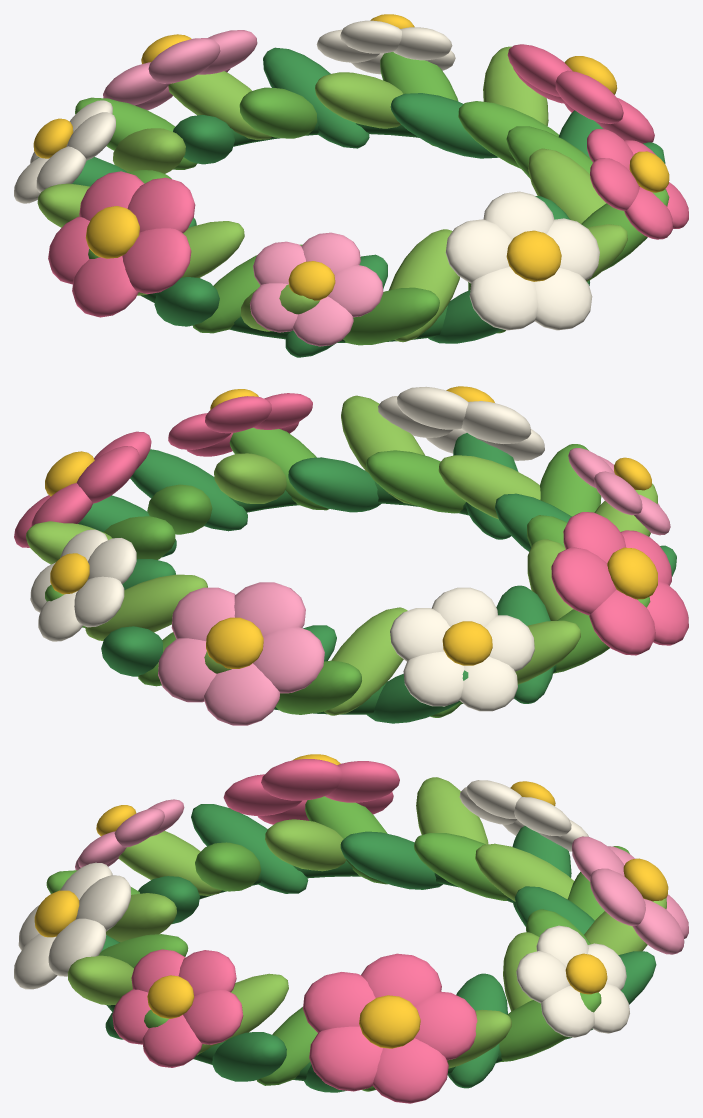
Rendered from FlowerCrown_Cartoon.glb.
The picture shows the model from 3 angles, top to bottom: view 1: azimuth 30°, elevation 25°; view 2: azimuth 150°, elevation 25°; view 3: azimuth 270°, elevation 25°; orthographic projection. The views are drawn at different scales.
Parts seen in each view (by area): view 1: FlowerCrown_Cartoon; view 2: FlowerCrown_Cartoon; view 3: FlowerCrown_Cartoon.
Boxes of the visible parts, x1=… form: FlowerCrown_Cartoon: x1=14, y1=14, x2=688, y2=357; FlowerCrown_Cartoon: x1=14, y1=386, x2=688, y2=725; FlowerCrown_Cartoon: x1=14, y1=754, x2=688, y2=1103.
Size of the model in its own units: 2.79 by 0.588 by 2.76.
